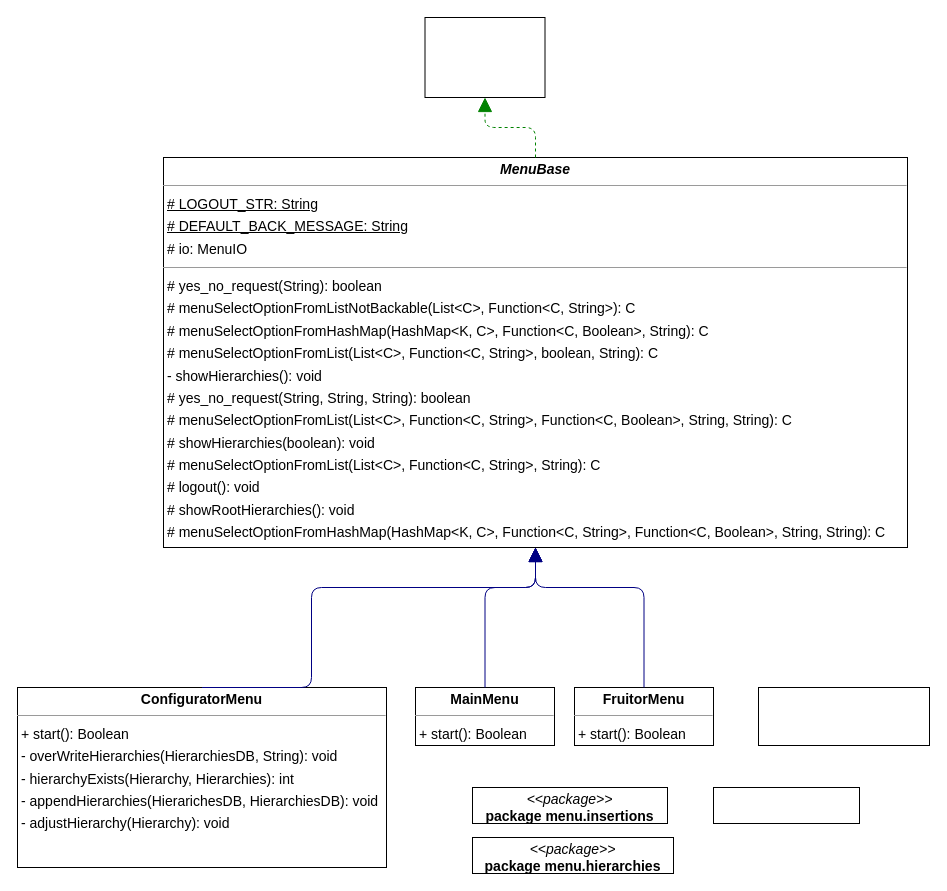
Some shapes in this 947 by 891 pixel diagram are drawn without their labels. The box of each missing label's shape, as (x1, y1, x2, y2) in pixels:
<<interface>> IMenu + start(): T: (424, 16, 545, 98)
<<package>> package menu.io: (712, 786, 860, 824)
LogoutInterrupt - serialVersionUID: long: (758, 686, 930, 746)
